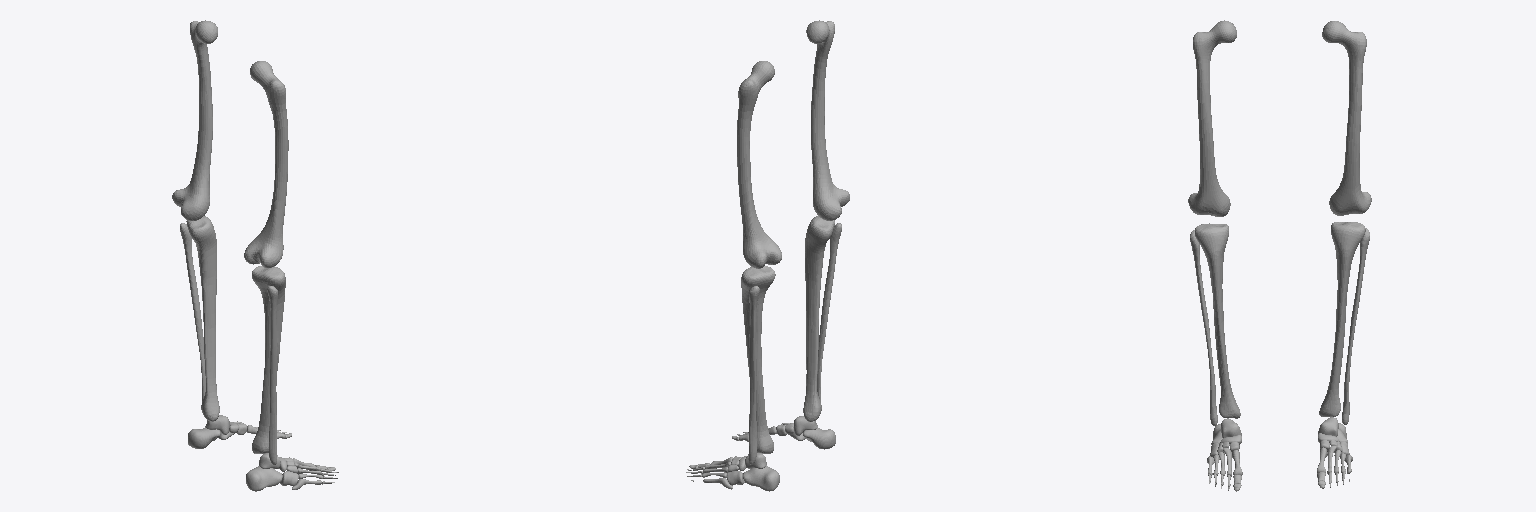
URDF robot description (Eskeleton4):
<?xml version="1.0" encoding="utf-8"?>
<robot
  name="Eskeleton4">
  <link
    name="base_link">
    <inertial>
      <origin
        xyz="-0.037732 6.4505E-07 0.4175"
        rpy="0 0 0" />
      <mass
        value="66.208" />
      <inertia
        ixx="0.23535"
        ixy="3.9059E-06"
        ixz="0.013551"
        iyy="0.30864"
        iyz="-1.3956E-06"
        izz="0.24236" />
    </inertial>
    <visual>
      <origin
        xyz="0 0 0"
        rpy="0 0 0" />
      <geometry>
        <mesh
          filename="package://Eskeleton4/meshes/base_link.STL" />
      </geometry>
      <material
        name="">
        <color
          rgba="0.69804 0.69804 0.69804 1" />
      </material>
    </visual>
    <collision>
      <origin
        xyz="0 0 0"
        rpy="0 0 0" />
      <geometry>
        <mesh
          filename="package://Eskeleton4/meshes/base_link.STL" />
      </geometry>
    </collision>
  </link>
  <link
    name="Right Femur">
    <inertial>
      <origin
        xyz="0.2113 -0.26103 0.0057553"
        rpy="0 0 0" />
      <mass
        value="9.0376" />
      <inertia
        ixx="0.31165"
        ixy="0.11305"
        ixz="-0.003476"
        iyy="0.051721"
        iyz="0.012042"
        izz="0.35623" />
    </inertial>
    <visual>
      <origin
        xyz="0 0 0"
        rpy="0 0 0" />
      <geometry>
        <mesh
          filename="package://Eskeleton4/meshes/Right Femur.STL" />
      </geometry>
      <material
        name="">
        <color
          rgba="0.69804 0.69804 0.69804 1" />
      </material>
    </visual>
    <collision>
      <origin
        xyz="0 0 0"
        rpy="0 0 0" />
      <geometry>
        <mesh
          filename="package://Eskeleton4/meshes/Right Femur.STL" />
      </geometry>
    </collision>
  </link>
  <joint
    name="Joint_1R"
    type="revolute">
    <origin
      xyz="-0.033032 -0.076798 -0.25962"
      rpy="1.5708 0.3558 -1.3534" />
    <parent
      link="base_link" />
    <child
      link="Right Femur" />
    <axis
      xyz="1 0 0" />
    <limit
      lower="-0.785"
      upper="1.75"
      effort="632"
      velocity="1.4" />
  </joint>
  <link
    name="tibia Right">
    <inertial>
      <origin
        xyz="-0.086659 -0.20695 0.026507"
        rpy="0 0 0" />
      <mass
        value="7.5257" />
      <inertia
        ixx="0.24277"
        ixy="0.010693"
        ixz="-1.2286E-05"
        iyy="0.0036723"
        iyz="0.0063708"
        izz="0.24298" />
    </inertial>
    <visual>
      <origin
        xyz="0 0 0"
        rpy="0 0 0" />
      <geometry>
        <mesh
          filename="package://Eskeleton4/meshes/tibia Right.STL" />
      </geometry>
      <material
        name="">
        <color
          rgba="0.69804 0.69804 0.69804 1" />
      </material>
    </visual>
    <collision>
      <origin
        xyz="0 0 0"
        rpy="0 0 0" />
      <geometry>
        <mesh
          filename="package://Eskeleton4/meshes/tibia Right.STL" />
      </geometry>
    </collision>
  </link>
  <joint
    name="joint 2R"
    type="revolute">
    <origin
      xyz="0.21162 -0.53453 0.019535"
      rpy="3.141 0.016615 -2.8217" />
    <parent
      link="Right Femur" />
    <child
      link="tibia Right" />
    <axis
      xyz="-1 0 0" />
    <limit
      lower="-1.5"
      upper="0"
      effort="400"
      velocity="2" />
  </joint>
  <link
    name="sole Right">
    <inertial>
      <origin
        xyz="-0.088298 -0.05155 0.034657"
        rpy="0 0 0" />
      <mass
        value="0.42132" />
      <inertia
        ixx="0.00019431"
        ixy="-6.9529E-06"
        ixz="1.7215E-05"
        iyy="0.00021619"
        iyz="5.2128E-06"
        izz="0.00011338" />
    </inertial>
    <visual>
      <origin
        xyz="0 0 0"
        rpy="0 0 0" />
      <geometry>
        <mesh
          filename="package://Eskeleton4/meshes/sole Right.STL" />
      </geometry>
      <material
        name="">
        <color
          rgba="0.69804 0.69804 0.69804 1" />
      </material>
    </visual>
    <collision>
      <origin
        xyz="0 0 0"
        rpy="0 0 0" />
      <geometry>
        <mesh
          filename="package://Eskeleton4/meshes/sole Right.STL" />
      </geometry>
    </collision>
  </link>
  <joint
    name="Joint 3R"
    type="revolute">
    <origin
      xyz="0.005 -0.55388 0.029784"
      rpy="0 0 0" />
    <parent
      link="tibia Right" />
    <child
      link="sole Right" />
    <axis
      xyz="1 0 0" />
    <limit
      lower="0"
      upper="1.4"
      effort="1000"
      velocity="4" />
  </joint>
  <link
    name="Left Femur">
    <inertial>
      <origin
        xyz="0.21127 -0.26085 -0.0092551"
        rpy="0 0 0" />
      <mass
        value="9.0425" />
      <inertia
        ixx="0.31182"
        ixy="0.11306"
        ixz="0.0049885"
        iyy="0.052128"
        iyz="-0.016113"
        izz="0.35605" />
    </inertial>
    <visual>
      <origin
        xyz="0 0 0"
        rpy="0 0 0" />
      <geometry>
        <mesh
          filename="package://Eskeleton4/meshes/Left Femur.STL" />
      </geometry>
      <material
        name="">
        <color
          rgba="0.69804 0.69804 0.69804 1" />
      </material>
    </visual>
    <collision>
      <origin
        xyz="0 0 0"
        rpy="0 0 0" />
      <geometry>
        <mesh
          filename="package://Eskeleton4/meshes/Left Femur.STL" />
      </geometry>
    </collision>
  </link>
  <joint
    name="Joint_1L"
    type="revolute">
    <origin
      xyz="-0.0330316854268313 0.0767977161404361 -0.259622527480125"
      rpy="1.5707963267949 0.355803022302202 1.35343007247512" />
    <parent
      link="base_link" />
    <child
      link="Left Femur" />
    <axis
      xyz="1 0 0" />
    <limit
      lower="-1.75"
      upper="0.785"
      effort="632"
      velocity="1.4" />
  </joint>
  <link
    name="tibia 2L">
    <inertial>
      <origin
        xyz="0.086658 -0.20534 0.026563"
        rpy="0 0 0" />
      <mass
        value="7.5246" />
      <inertia
        ixx="0.24273"
        ixy="-0.010689"
        ixz="9.3593E-05"
        iyy="0.0037826"
        iyz="0.0081927"
        izz="0.24282" />
    </inertial>
    <visual>
      <origin
        xyz="0 0 0"
        rpy="0 0 0" />
      <geometry>
        <mesh
          filename="package://Eskeleton4/meshes/tibia 2L.STL" />
      </geometry>
      <material
        name="">
        <color
          rgba="0.69804 0.69804 0.69804 1" />
      </material>
    </visual>
    <collision>
      <origin
        xyz="0 0 0"
        rpy="0 0 0" />
      <geometry>
        <mesh
          filename="package://Eskeleton4/meshes/tibia 2L.STL" />
      </geometry>
    </collision>
  </link>
  <joint
    name="Joint 2L"
    type="revolute">
    <origin
      xyz="0.211609423149353 -0.534225380568541 -0.0266965498013103"
      rpy="-0.000443135497586983 0.0123881327815661 0.320046383835979" />
    <parent
      link="Left Femur" />
    <child
      link="tibia 2L" />
    <axis
      xyz="1 0 0" />
    <limit
      lower="0"
      upper="1.5"
      effort="400"
      velocity="2" />
  </joint>
  <link
    name="sole Left">
    <inertial>
      <origin
        xyz="0.083145 -0.050628 0.035614"
        rpy="0 0 0" />
      <mass
        value="0.42036" />
      <inertia
        ixx="0.00019425"
        ixy="6.5447E-06"
        ixz="-1.7364E-05"
        iyy="0.00021632"
        iyz="2.7658E-06"
        izz="0.00011318" />
    </inertial>
    <visual>
      <origin
        xyz="0 0 0"
        rpy="0 0 0" />
      <geometry>
        <mesh
          filename="package://Eskeleton4/meshes/sole Left.STL" />
      </geometry>
      <material
        name="">
        <color
          rgba="0.69804 0.69804 0.69804 1" />
      </material>
    </visual>
    <collision>
      <origin
        xyz="0 0 0"
        rpy="0 0 0" />
      <geometry>
        <mesh
          filename="package://Eskeleton4/meshes/sole Left.STL" />
      </geometry>
    </collision>
  </link>
  <joint
    name="Joint 3L"
    type="revolute">
    <origin
      xyz="0 -0.55223 0.032487"
      rpy="0 0 0" />
    <parent
      link="tibia 2L" />
    <child
      link="sole Left" />
    <axis
      xyz="-1 0 0" />
    <limit
      lower="-1.4"
      upper="0"
      effort="1000"
      velocity="4" />
  </joint>
</robot>

--- What the picture shows (computed from the rendered views, not written in the file) ---
3 views of the same robot in one strip: view 1: azimuth 30°, elevation 25°; view 2: azimuth 150°, elevation 25°; view 3: azimuth 270°, elevation 25° (orthographic).
Model Eskeleton4 with 7 links and 6 joints (6 revolute), rooted at base_link, posed all joints at 0.
Visible links, largest first — view 1: tibia 2L, Right Femur, Left Femur, tibia Right, sole Right, sole Left; view 2: tibia Right, Left Femur, Right Femur, tibia 2L, sole Left, sole Right; view 3: tibia Right, tibia 2L, Left Femur, Right Femur, sole Right, sole Left.
Boxes of the visible links, x1=… form: tibia 2L: x1=180, y1=216, x2=219, y2=421; Right Femur: x1=244, y1=61, x2=288, y2=267; Left Femur: x1=172, y1=20, x2=217, y2=220; tibia Right: x1=252, y1=266, x2=285, y2=464; sole Right: x1=246, y1=453, x2=338, y2=491; sole Left: x1=188, y1=415, x2=291, y2=448; tibia Right: x1=803, y1=216, x2=841, y2=421; Left Femur: x1=737, y1=61, x2=781, y2=268; Right Femur: x1=806, y1=20, x2=849, y2=220; tibia 2L: x1=741, y1=266, x2=775, y2=464; sole Left: x1=686, y1=453, x2=779, y2=491; sole Right: x1=732, y1=416, x2=835, y2=449; tibia Right: x1=1190, y1=223, x2=1240, y2=425; tibia 2L: x1=1319, y1=222, x2=1369, y2=424; Left Femur: x1=1322, y1=21, x2=1371, y2=215; Right Femur: x1=1188, y1=20, x2=1236, y2=216; sole Right: x1=1207, y1=418, x2=1242, y2=491; sole Left: x1=1317, y1=417, x2=1352, y2=488.
Bounding box of the posed robot: 0.3065 × 0.479 × 1.24 m (x, y, z).
Meshes: 7 distinct files referenced, 6 mesh visuals loaded (6 binary STL); not drawn: 1 (reference not matched to a file when rendering).
